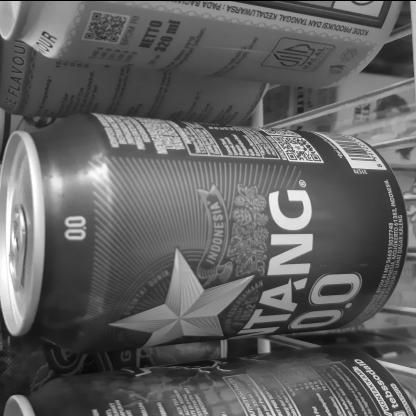alumunium_can: (0, 105, 416, 358)
